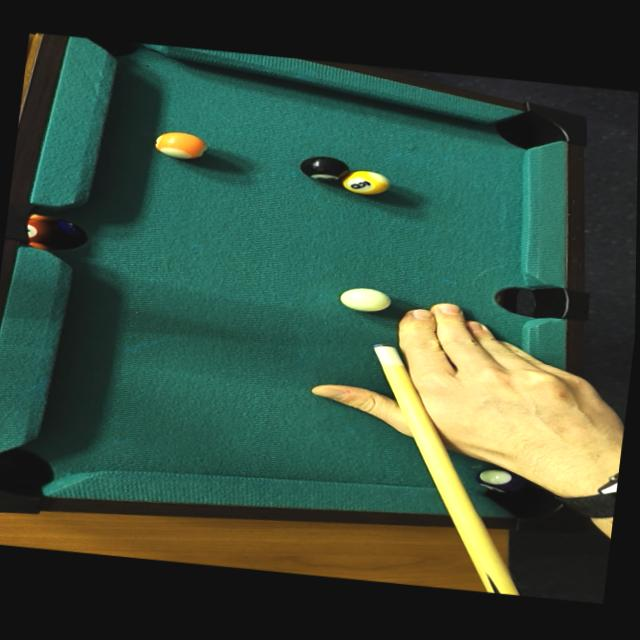cue ball: (334, 283, 394, 317)
other: (147, 126, 214, 164), (292, 152, 350, 184), (336, 167, 392, 199)
